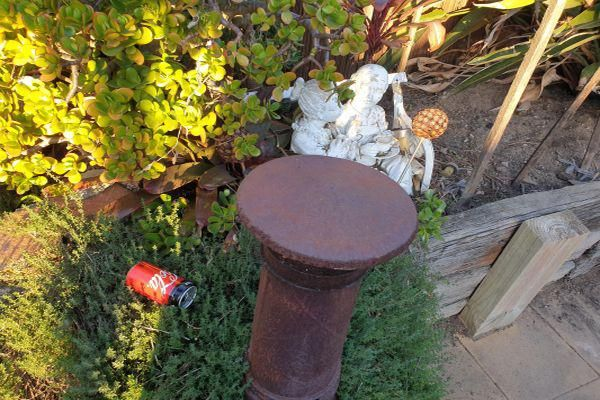Plastic Bottle: (124, 261, 198, 311)
